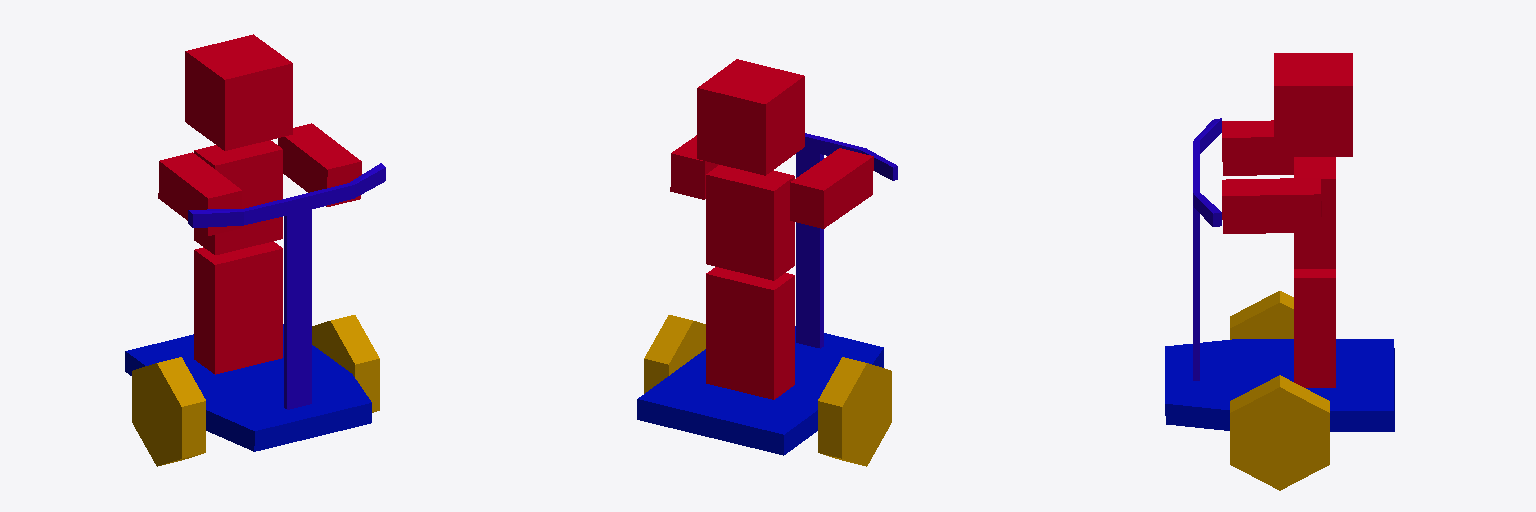
File: SegModel.obj
3 views of the same model, side by side, from view 1: azimuth 30°, elevation 25°; view 2: azimuth 150°, elevation 25°; view 3: azimuth 270°, elevation 25° (orthographic).
Visible parts, largest first — view 1: Steave_立方体.001, Base_Cube, Hoile6_円柱.001, Grip_立方体; view 2: Steave_立方体.001, Base_Cube, Hoile6_円柱.001, Grip_立方体; view 3: Steave_立方体.001, Base_Cube, Hoile6_円柱.001, Grip_立方体.
Part boxes in pixels (x1,y1,x2,y2): Steave_立方体.001: (158,34,361,374); Base_Cube: (125,324,371,451); Hoile6_円柱.001: (132,315,379,466); Grip_立方体: (188,163,385,409); Steave_立方体.001: (670,59,873,399); Base_Cube: (637,326,883,455); Hoile6_円柱.001: (644,315,891,466); Grip_立方体: (796,133,897,348); Steave_立方体.001: (1222,53,1352,387); Base_Cube: (1165,339,1394,431); Hoile6_円柱.001: (1230,291,1329,490); Grip_立方体: (1193,118,1221,380).
Bounding box in the file's own units: 12 × 21.56 × 12.02.